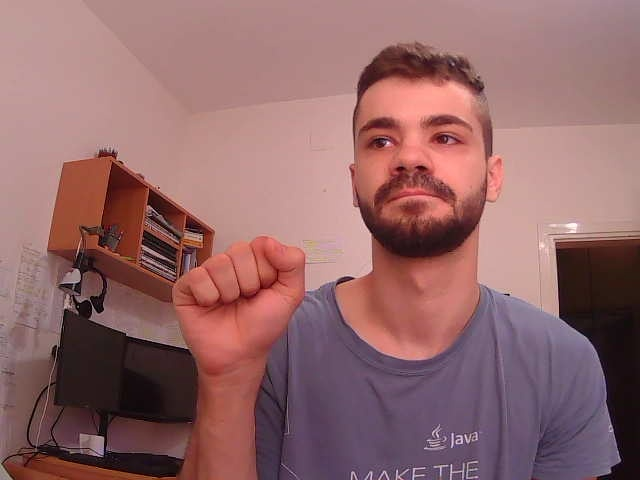a: (158, 218, 319, 366)
